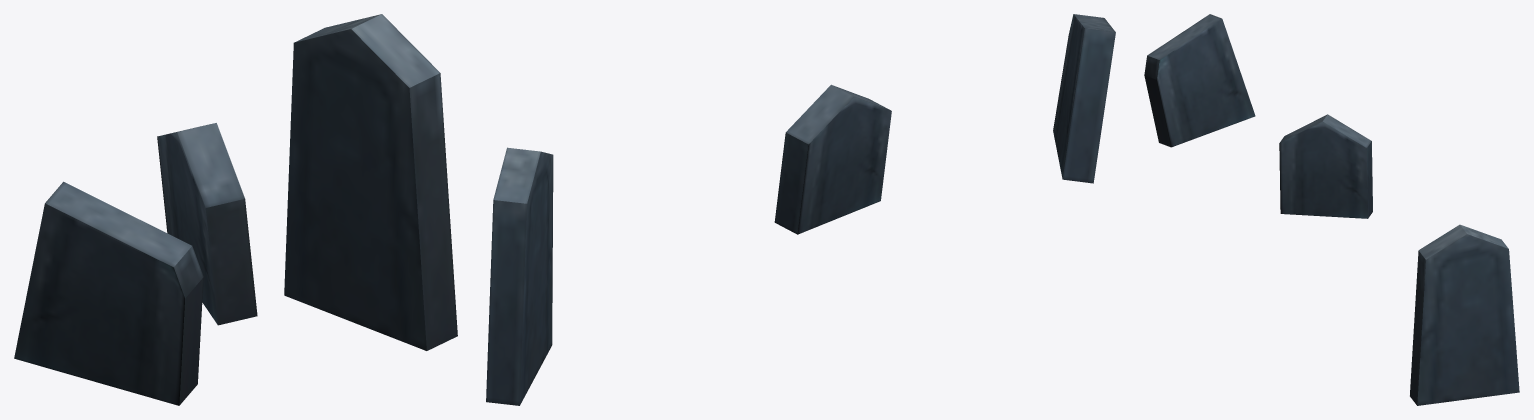
The model's file is Area_04_48.fbx.
The picture shows the model from 3 angles, left to right: view 1: azimuth 30°, elevation 25°; view 2: azimuth 150°, elevation 25°; view 3: azimuth 270°, elevation 25°; orthographic projection. The views are drawn at different scales.
Parts seen in each view (by area): view 1: Area_04_48; view 2: Area_04_48; view 3: Area_04_48.
Boxes of the visible parts, x1,y1,x2,y2 form: Area_04_48: [14, 14, 457, 405]; Area_04_48: [486, 14, 1115, 405]; Area_04_48: [1144, 14, 1519, 405].
Size of the model in its own units: 890 by 599 by 871.
